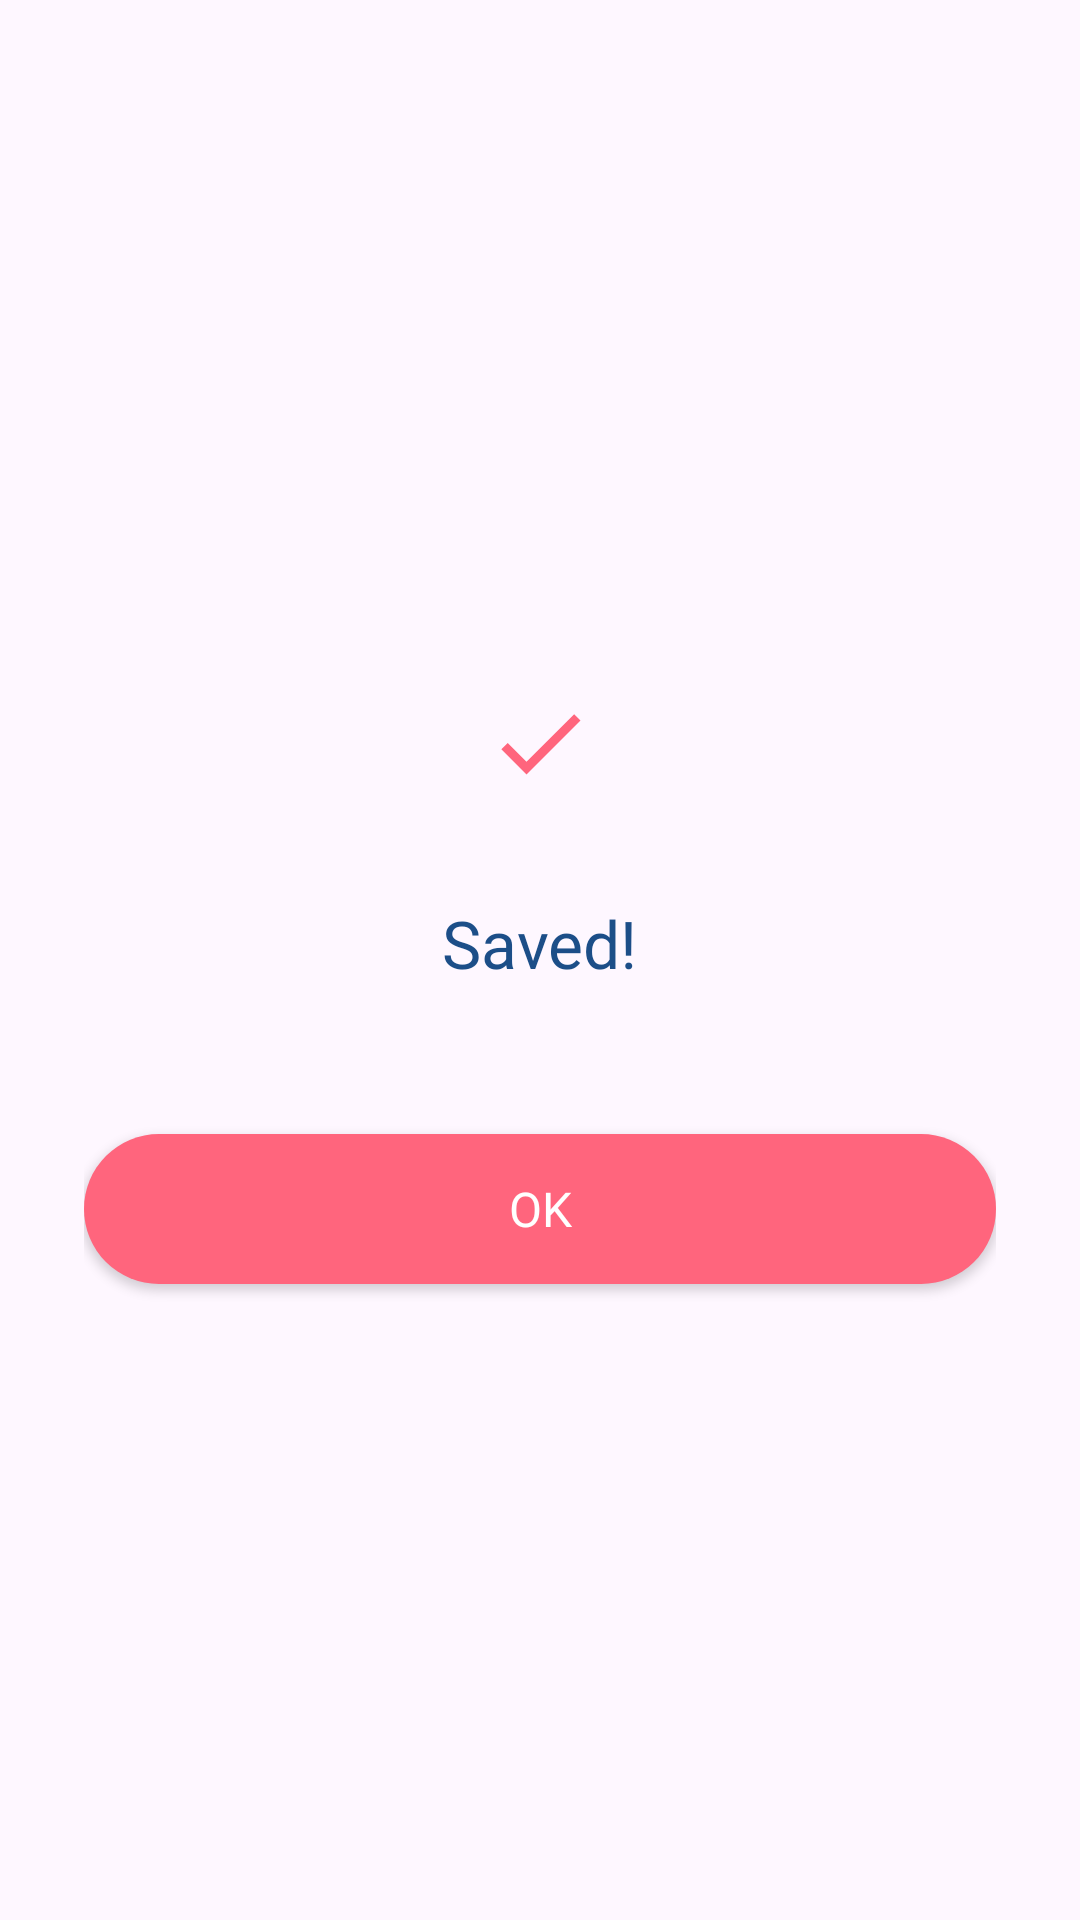

Screen size 1080*1920. Icon name, then its center in pixels as (x,y):
check: (541,744)
